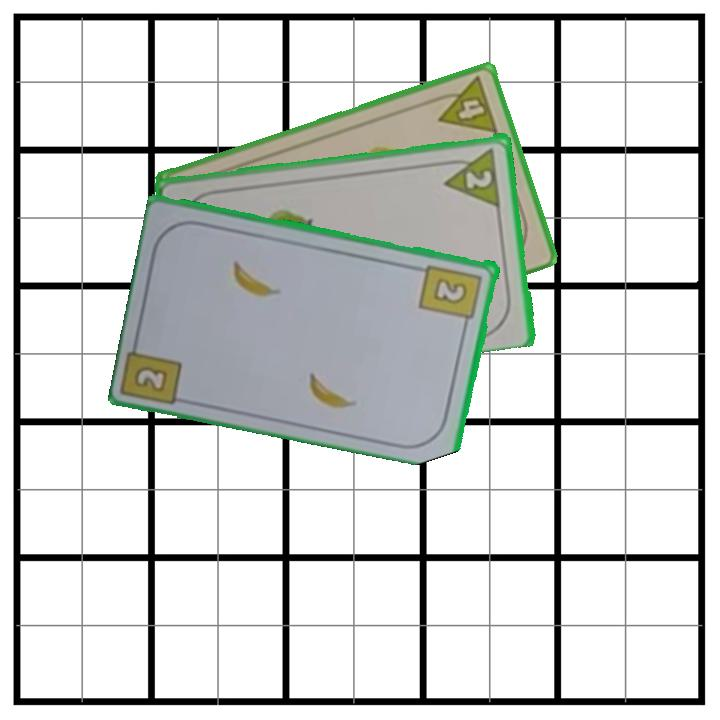2b: (417, 260, 485, 331), (134, 365, 168, 392)
2p: (462, 166, 495, 192)
4p: (429, 73, 501, 136)
